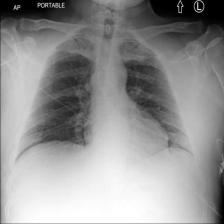normal: (9, 29, 197, 183)
